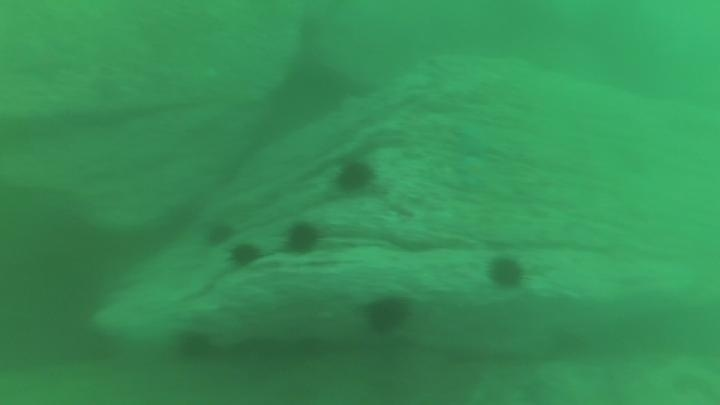echinus: (361, 292, 413, 338), (332, 156, 378, 197), (484, 252, 528, 293), (281, 218, 324, 259), (172, 326, 216, 365), (226, 239, 265, 271), (202, 218, 237, 250)
starfish: (451, 123, 503, 164), (451, 152, 495, 189)
